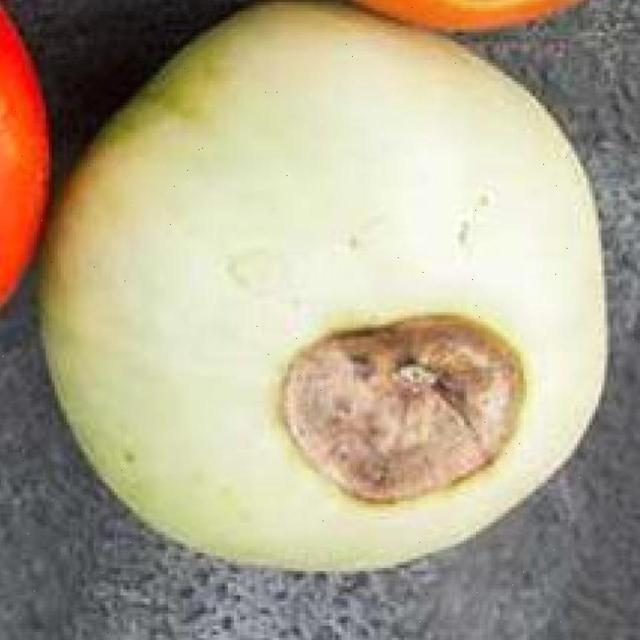Blossom End Rot Fruit: (181, 209, 351, 341)
